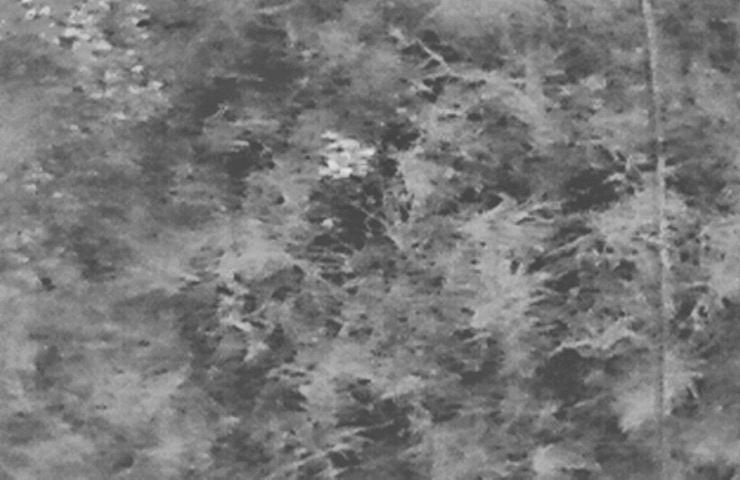landmines: (320, 127, 379, 179)
